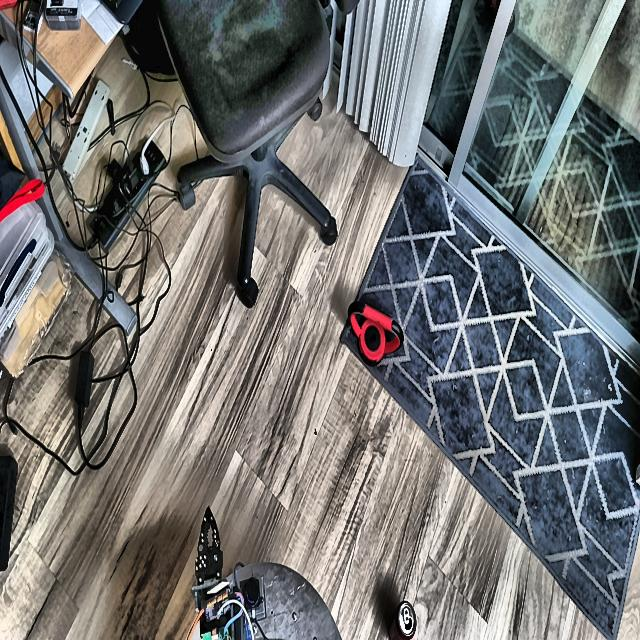Can: (389, 602, 415, 639)
